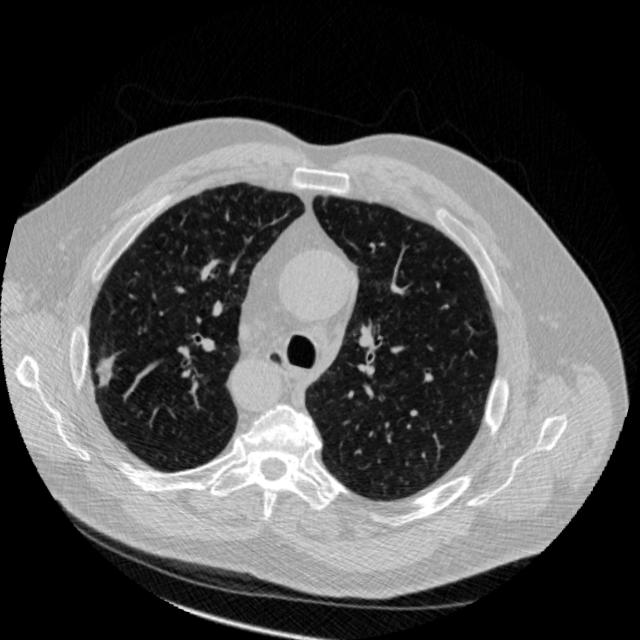nodule: (82, 348, 130, 396)
